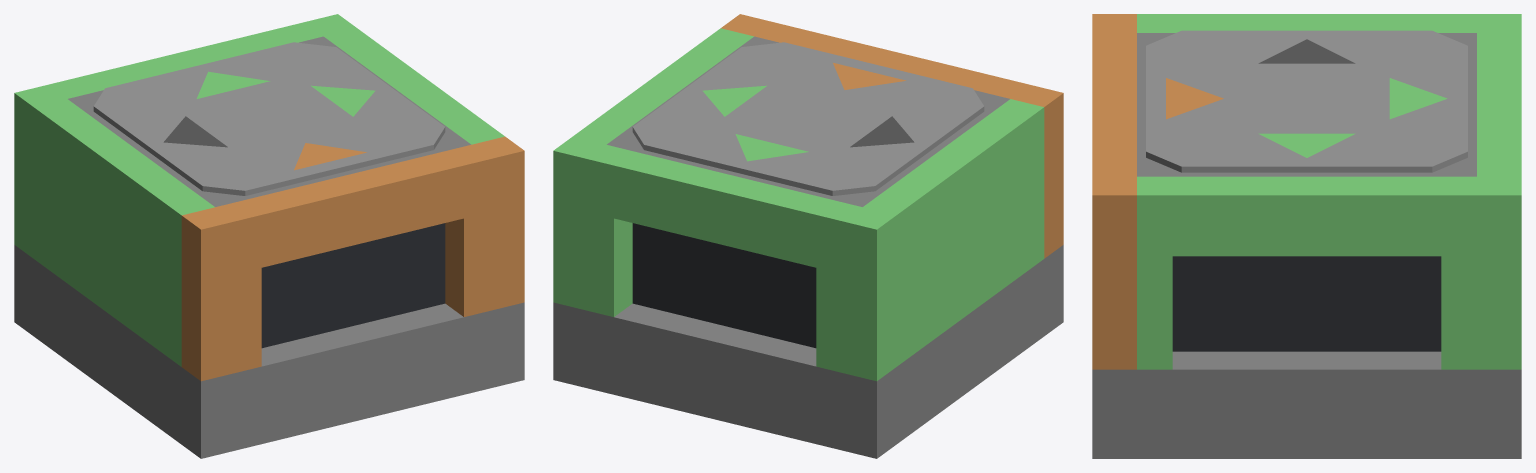
Rendered from vfef_splitter2_fr.obj.
3 views of the same model, side by side, from view 1: azimuth 30°, elevation 25°; view 2: azimuth 150°, elevation 25°; view 3: azimuth 270°, elevation 25° (orthographic). The views are drawn at different scales.
Parts seen in each view (by area): view 1: vfef_splitter2_fr_0, vfef_splitter2_fr_19, vfef_splitter2_fr_14, vfef_splitter2_fr_13, vfef_splitter2_fr_12, vfef_splitter2_fr_15, vfef_splitter2_fr_11, vfef_splitter2_fr_17, vfef_splitter2_fr_10, vfef_splitter2_fr_8, vfef_splitter2_fr_16, vfef_splitter2_fr_4 (+9 smaller); view 2: vfef_splitter2_fr_0, vfef_splitter2_fr_19, vfef_splitter2_fr_14, vfef_splitter2_fr_5, vfef_splitter2_fr_4, vfef_splitter2_fr_16, vfef_splitter2_fr_3, vfef_splitter2_fr_18, vfef_splitter2_fr_2, vfef_splitter2_fr_8, vfef_splitter2_fr_15, vfef_splitter2_fr_12 (+9 smaller); view 3: vfef_splitter2_fr_0, vfef_splitter2_fr_19, vfef_splitter2_fr_9, vfef_splitter2_fr_8, vfef_splitter2_fr_17, vfef_splitter2_fr_18, vfef_splitter2_fr_6, vfef_splitter2_fr_7, vfef_splitter2_fr_14, vfef_splitter2_fr_4, vfef_splitter2_fr_12, vfef_splitter2_fr_1 (+9 smaller).
Part boxes in pixels (x1,y1,x2,y2): vfef_splitter2_fr_0: (14, 245, 524, 458); vfef_splitter2_fr_19: (93, 42, 445, 195); vfef_splitter2_fr_14: (33, 99, 214, 366); vfef_splitter2_fr_13: (261, 223, 445, 348); vfef_splitter2_fr_12: (243, 151, 463, 267); vfef_splitter2_fr_15: (181, 207, 234, 381); vfef_splitter2_fr_11: (445, 144, 490, 316); vfef_splitter2_fr_17: (472, 136, 524, 310); vfef_splitter2_fr_10: (215, 200, 261, 372); vfef_splitter2_fr_8: (339, 39, 488, 133); vfef_splitter2_fr_16: (14, 85, 66, 258); vfef_splitter2_fr_4: (75, 29, 294, 92); vfef_splitter2_fr_0: (553, 245, 1063, 458); vfef_splitter2_fr_19: (632, 42, 984, 195); vfef_splitter2_fr_14: (863, 99, 1044, 366); vfef_splitter2_fr_5: (632, 223, 816, 348); vfef_splitter2_fr_4: (614, 151, 834, 267); vfef_splitter2_fr_16: (843, 207, 896, 381); vfef_splitter2_fr_3: (587, 144, 632, 316); vfef_splitter2_fr_18: (553, 136, 605, 310); vfef_splitter2_fr_2: (816, 200, 862, 372); vfef_splitter2_fr_8: (589, 39, 738, 133); vfef_splitter2_fr_15: (1011, 85, 1063, 258); vfef_splitter2_fr_12: (783, 29, 1002, 92); vfef_splitter2_fr_0: (1092, 351, 1521, 458); vfef_splitter2_fr_19: (1146, 30, 1467, 172); vfef_splitter2_fr_9: (1172, 256, 1441, 351); vfef_splitter2_fr_8: (1172, 176, 1441, 256); vfef_splitter2_fr_17: (1092, 176, 1136, 369); vfef_splitter2_fr_18: (1477, 176, 1521, 369); vfef_splitter2_fr_6: (1137, 176, 1172, 369); vfef_splitter2_fr_7: (1441, 176, 1476, 369); vfef_splitter2_fr_14: (1137, 14, 1476, 32); vfef_splitter2_fr_4: (1477, 48, 1521, 161); vfef_splitter2_fr_12: (1092, 48, 1136, 161); vfef_splitter2_fr_1: (1137, 33, 1476, 176).
Size of the model in its own units: 0.96 by 0.665 by 0.96.
